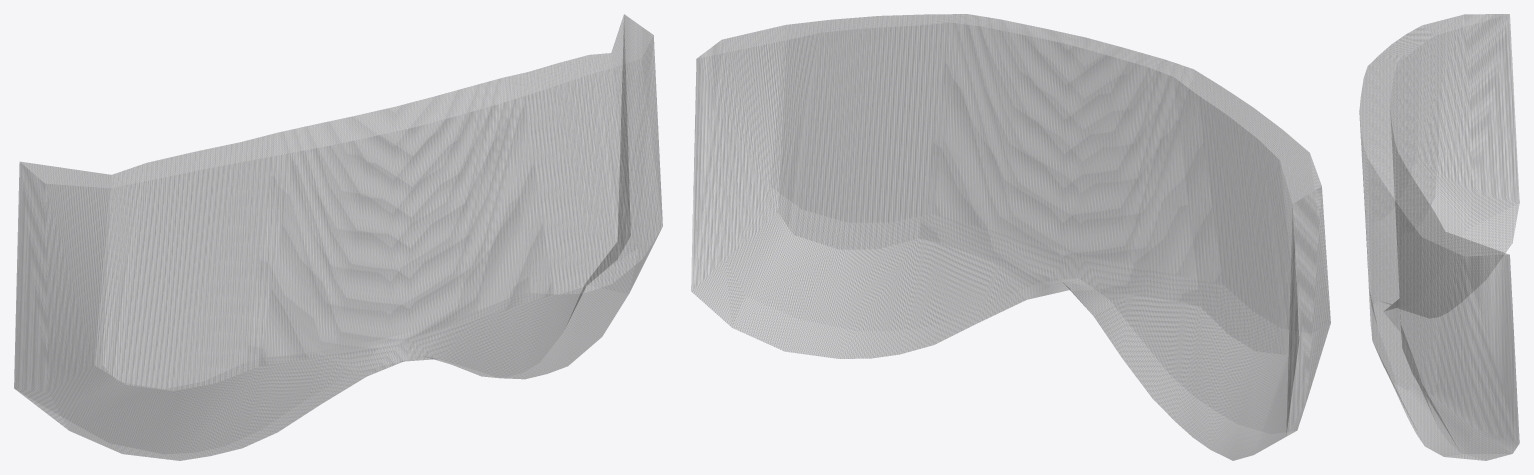
File: gafas.fbx
The picture shows the model from 3 angles, left to right: view 1: azimuth 30°, elevation 25°; view 2: azimuth 150°, elevation 25°; view 3: azimuth 270°, elevation 25°; orthographic projection. The views are drawn at different scales.
Parts seen in each view (by area): view 1: gafas; view 2: gafas; view 3: gafas.
Boxes of the visible parts, x1,y1,x2,y2 form: gafas: (14, 14, 662, 460); gafas: (691, 14, 1330, 460); gafas: (1359, 14, 1519, 460).
Size of the model in its own units: 10.24 by 5.36 by 2.86.
